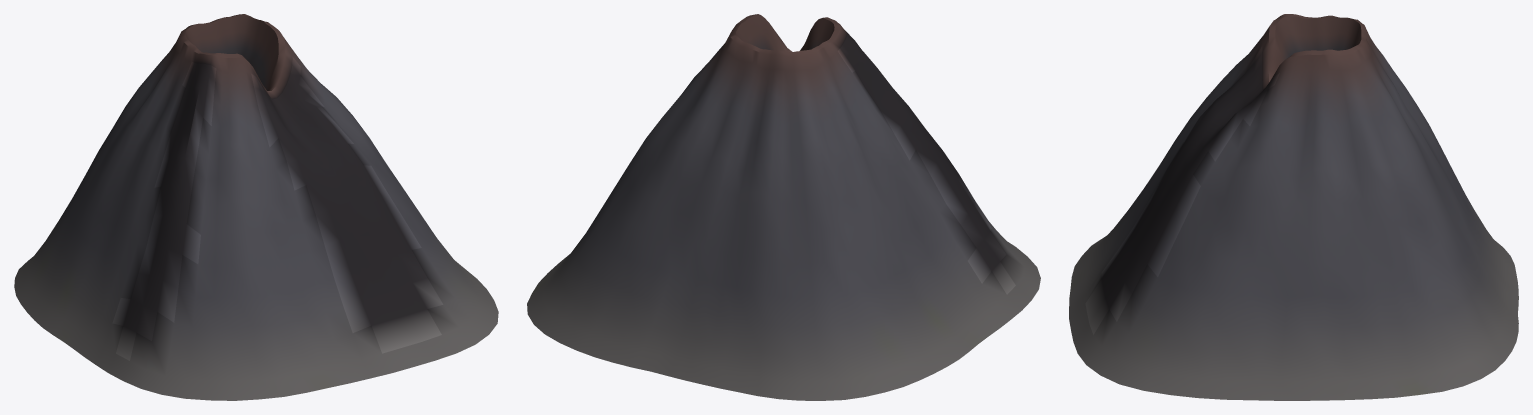
File: decor_montagne_volcan_toutes_2.glb
3 renders of one model, left to right at view 1: azimuth 30°, elevation 25°; view 2: azimuth 150°, elevation 25°; view 3: azimuth 270°, elevation 25°, orthographic. The views are drawn at different scales.
Visible parts, largest first — view 1: relief; view 2: relief; view 3: relief.
Boxes of the visible parts, <box> form: relief: <box>14,14,498,400</box>; relief: <box>527,14,1040,400</box>; relief: <box>1069,14,1518,400</box>.
Bounding box in the file's own units: 0.9432 × 0.62 × 0.9427.
